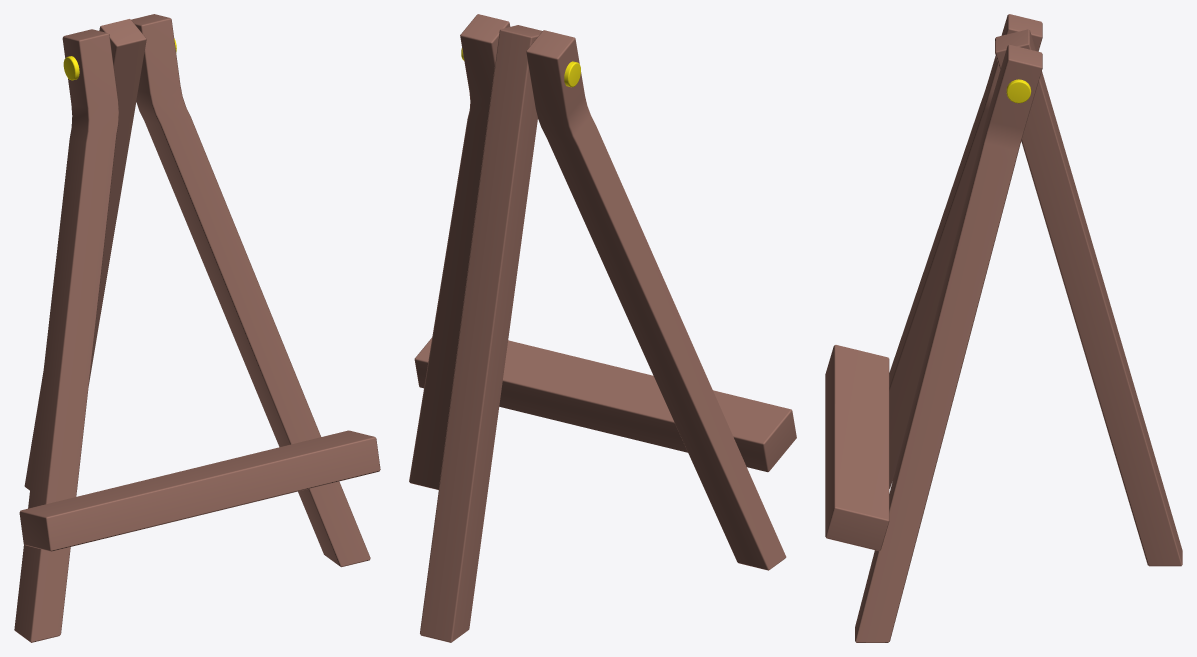
File: Public_9_Picture_Stand_1.glb
3 renders of one model, left to right at view 1: azimuth 30°, elevation 25°; view 2: azimuth 150°, elevation 25°; view 3: azimuth 270°, elevation 25°, orthographic. The views are drawn at different scales.
Visible parts, largest first — view 1: Public_9_Picture_Stand_1; view 2: Public_9_Picture_Stand_1; view 3: Public_9_Picture_Stand_1.
Boxes of the visible parts, <box> form: Public_9_Picture_Stand_1: <box>14,14,380,642</box>; Public_9_Picture_Stand_1: <box>409,14,796,642</box>; Public_9_Picture_Stand_1: <box>825,14,1182,642</box>.
Bounding box in the file's own units: 2.39 × 3.46 × 2.15.
Materials: 1 (1 with a texture image).
